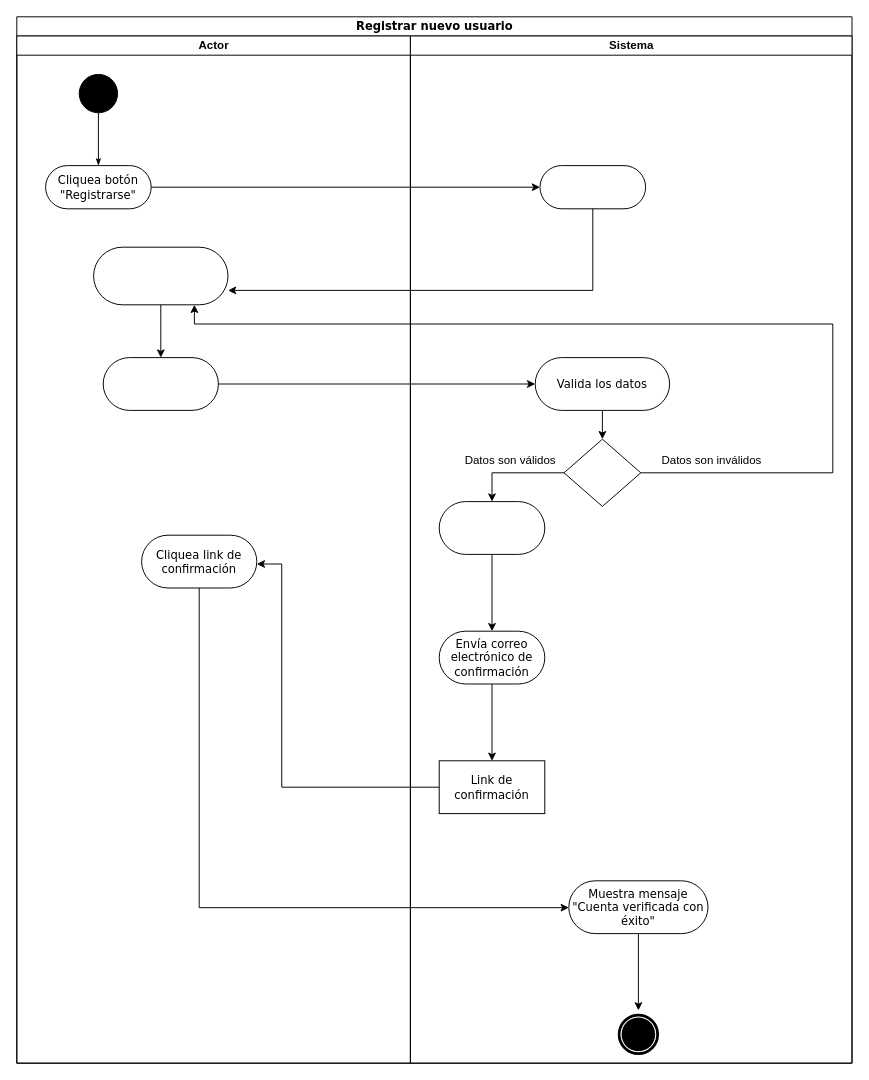
Image size: 869x1080. Some labels were removed from this diagram. The centre of each missing label's shape, as x and y in pixels:
Actualiza base de datos: [491,527]
Ingresa información personal: [160,275]
Muestra interfaz de registro: [592,187]
Presiona botón "Crear cuenta": [160,383]
